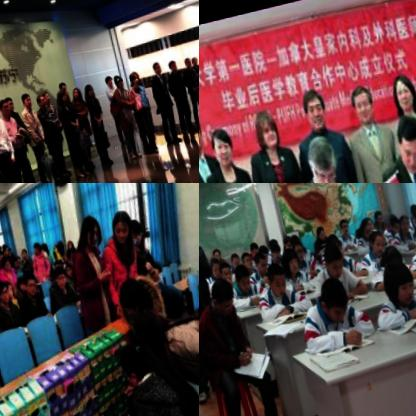head: (376, 263, 416, 321), (297, 133, 341, 183), (385, 113, 416, 179), (111, 279, 151, 326), (310, 280, 347, 330), (124, 310, 163, 355), (342, 84, 378, 131), (112, 345, 149, 390), (202, 125, 236, 170), (203, 281, 235, 324), (295, 88, 325, 133), (387, 74, 415, 119), (314, 243, 343, 286), (247, 109, 275, 149), (258, 264, 286, 304), (75, 216, 101, 253), (106, 211, 130, 250), (228, 266, 251, 300), (321, 235, 343, 267), (364, 232, 386, 264), (375, 246, 398, 275), (122, 222, 143, 250), (277, 250, 297, 279), (247, 253, 265, 279), (19, 275, 36, 301), (287, 242, 304, 268), (203, 257, 220, 282), (213, 262, 230, 286), (236, 254, 252, 277), (355, 221, 371, 244), (50, 271, 65, 295), (407, 224, 416, 263), (395, 218, 410, 239), (253, 247, 268, 266), (266, 247, 280, 267), (334, 222, 347, 243), (311, 227, 324, 247), (162, 63, 177, 80), (359, 220, 373, 238), (385, 220, 399, 238), (0, 283, 12, 302), (12, 276, 24, 295), (245, 241, 257, 260), (265, 240, 278, 257), (0, 95, 11, 115), (369, 213, 381, 231), (51, 92, 65, 107), (16, 96, 29, 112), (79, 87, 92, 103), (124, 76, 137, 92), (226, 253, 238, 270), (147, 66, 159, 82), (278, 237, 290, 253), (31, 96, 43, 111), (206, 249, 218, 264), (110, 77, 121, 93), (99, 77, 110, 92), (36, 91, 46, 107), (0, 280, 6, 306), (67, 90, 78, 104), (178, 61, 189, 75), (27, 243, 38, 257), (408, 212, 416, 231), (36, 244, 47, 257), (285, 235, 295, 249), (55, 84, 64, 99), (0, 259, 9, 274), (61, 265, 70, 279), (0, 101, 6, 120), (62, 242, 71, 253), (50, 243, 59, 254), (0, 244, 7, 258), (128, 77, 137, 87), (17, 250, 25, 261), (11, 257, 19, 267), (50, 264, 58, 273), (187, 61, 194, 71)
